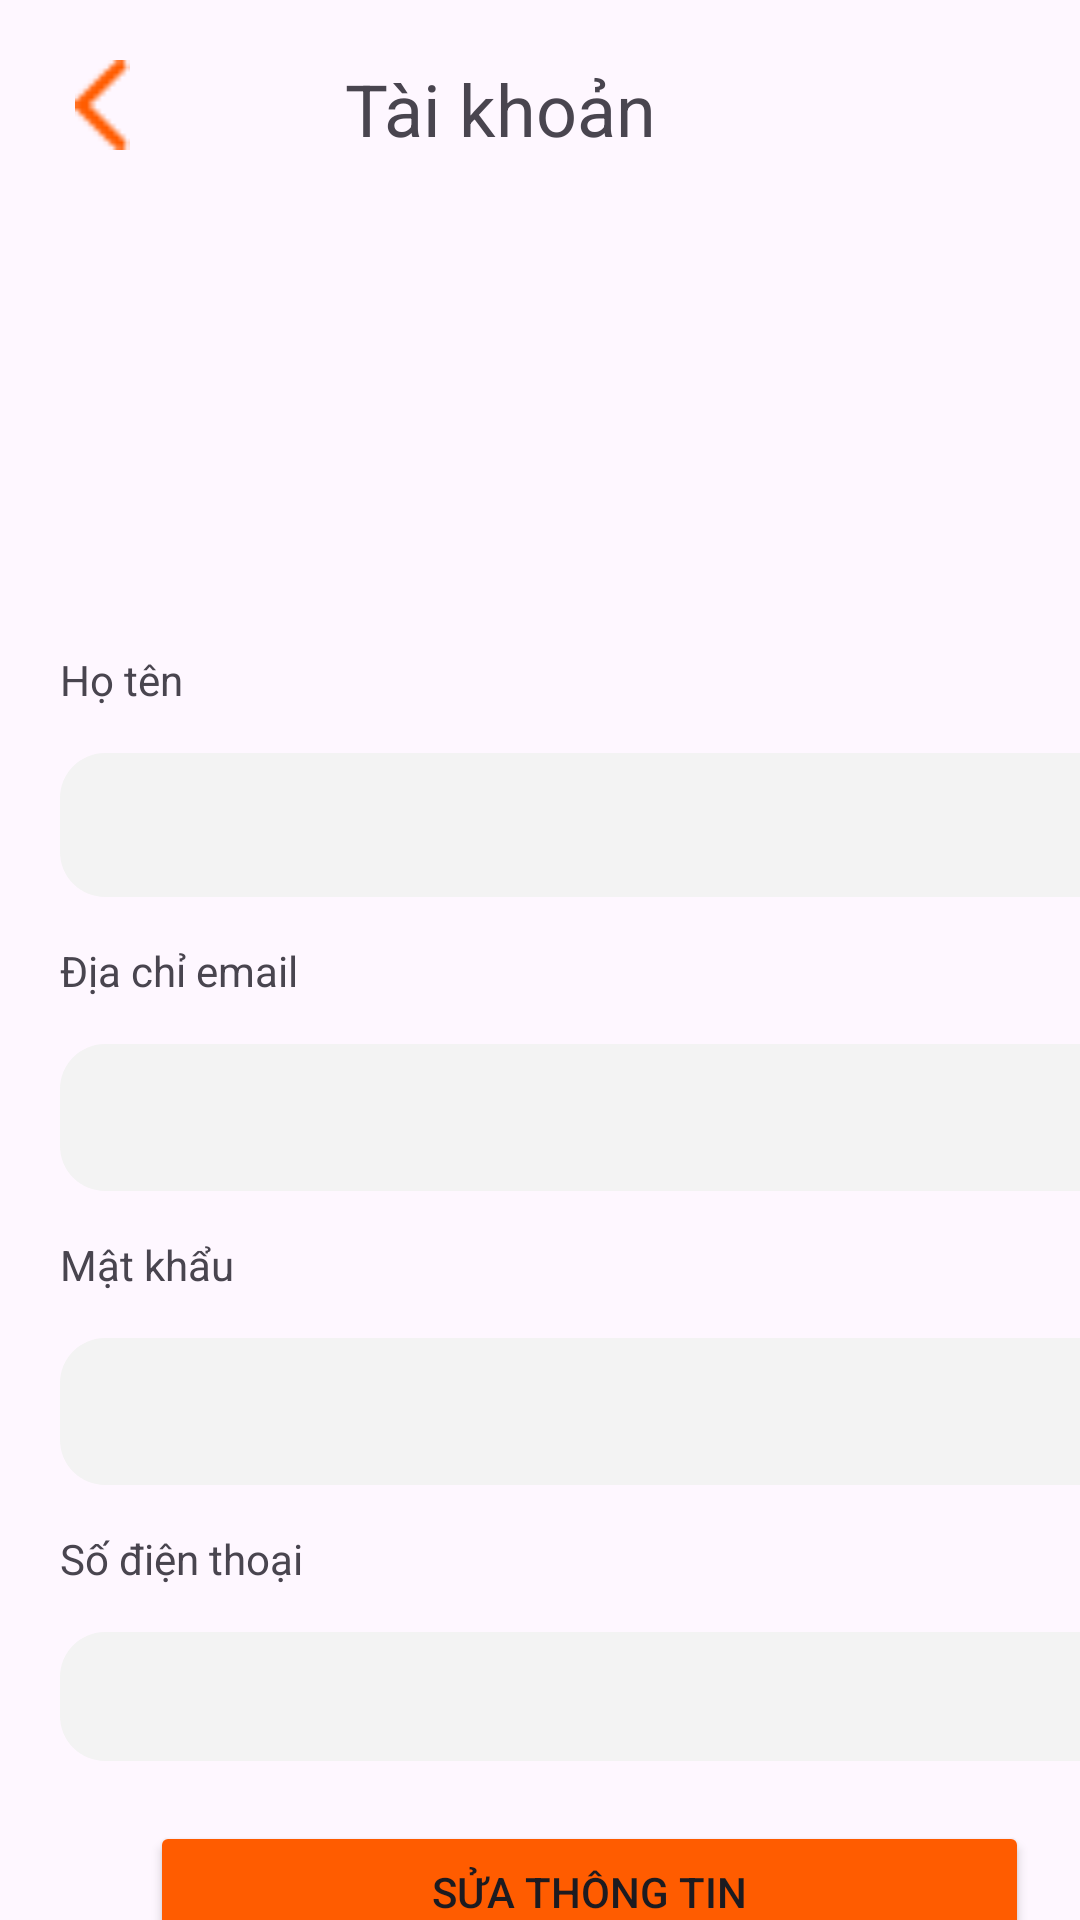

Screen size 1080px×1920px. Icon name, then its box in pixels as box(x1, y1, x2, y2):
back: box(75, 60, 130, 150)
